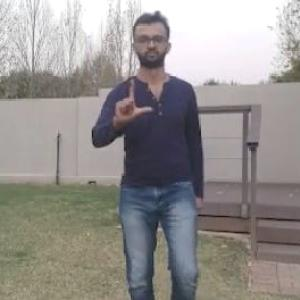land_hand: (107, 76, 154, 126)
